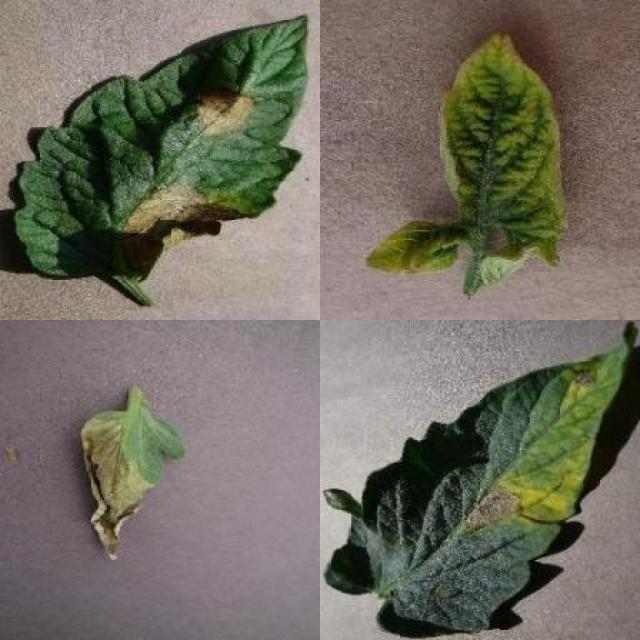Early Blight: (321, 327, 640, 632)
Late Blight: (12, 14, 308, 282), (81, 407, 186, 564)
Yellow Leaf Curl Virus: (365, 32, 568, 284)
